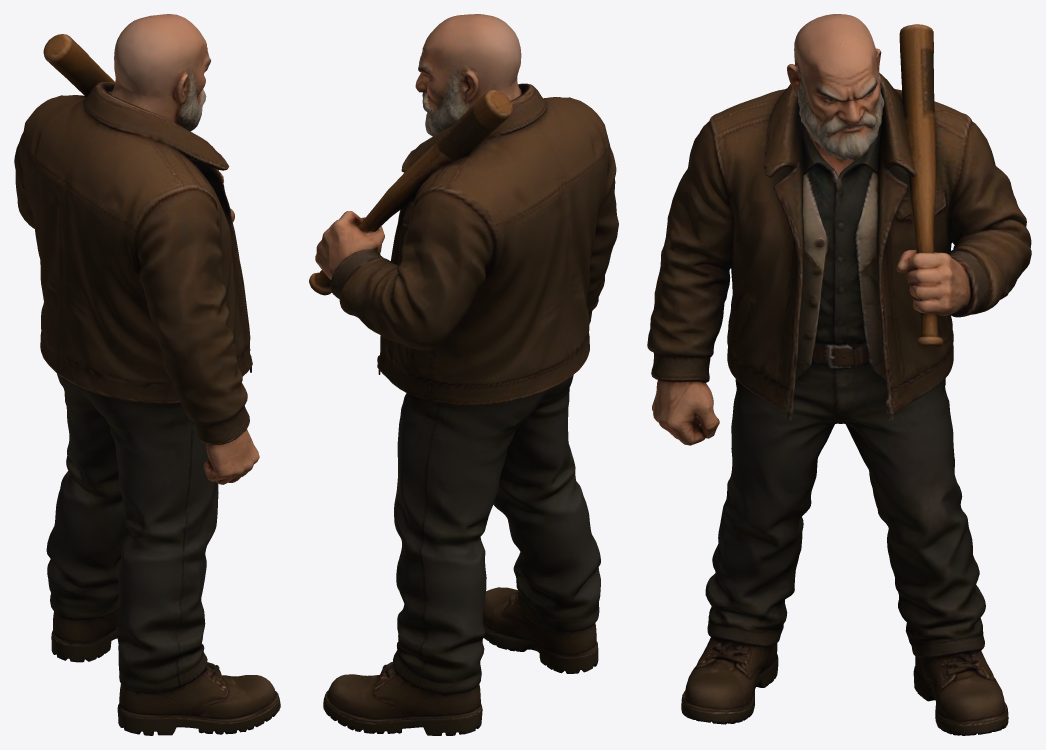
Rendered from UNTITLED_CREW_CHARACTER.glb.
3 renders of one model, left to right at view 1: azimuth 30°, elevation 25°; view 2: azimuth 150°, elevation 25°; view 3: azimuth 270°, elevation 25°, orthographic. The views are drawn at different scales.
Parts seen in each view (by area): view 1: tripo_node_63d102ab-769b-4513-88bd-8f6ce27f5f61; view 2: tripo_node_63d102ab-769b-4513-88bd-8f6ce27f5f61; view 3: tripo_node_63d102ab-769b-4513-88bd-8f6ce27f5f61.
Part boxes in pixels (bbox=[...]): tripo_node_63d102ab-769b-4513-88bd-8f6ce27f5f61: bbox=[14, 14, 280, 735]; tripo_node_63d102ab-769b-4513-88bd-8f6ce27f5f61: bbox=[309, 14, 618, 735]; tripo_node_63d102ab-769b-4513-88bd-8f6ce27f5f61: bbox=[647, 14, 1031, 735].
Bounding box in the file's own units: 0.3418 × 1 × 0.5076.
Materials: 1 (1 with a texture image).
